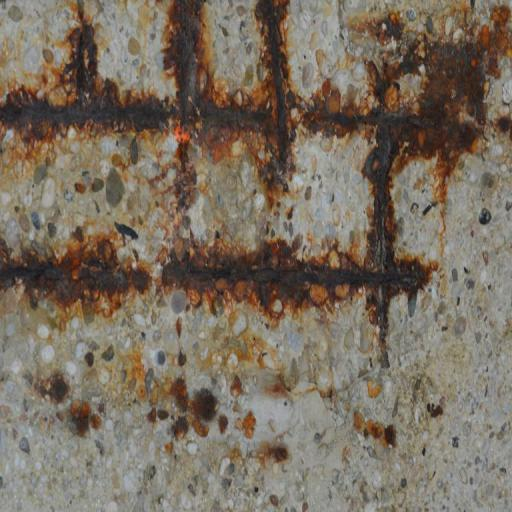spalling: (20, 5, 484, 411)
